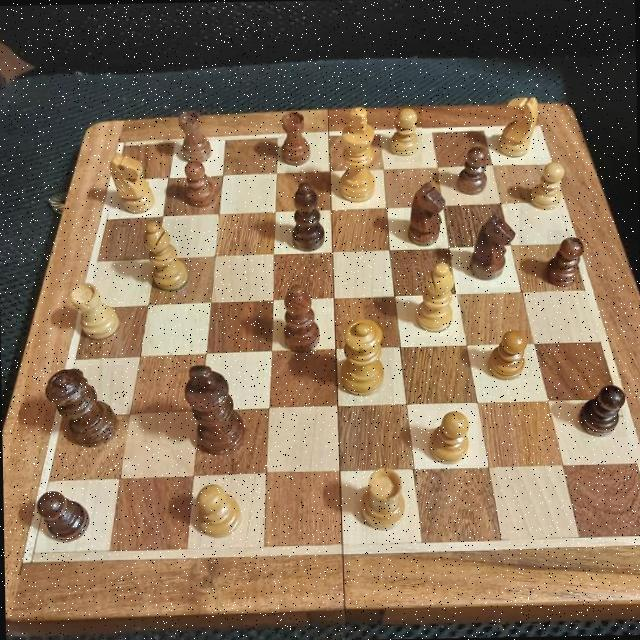black-camel: (276, 279, 325, 353), (290, 180, 324, 248)
black-elephant: (276, 106, 318, 169), (170, 108, 218, 158)
black-horse: (472, 207, 520, 288), (403, 174, 452, 250)
black-king: (182, 362, 252, 454)
black-pawn: (35, 486, 91, 544), (580, 373, 626, 438), (546, 229, 584, 283), (459, 141, 492, 195), (181, 162, 219, 208)
black-queen: (44, 364, 124, 444)
white-camel: (140, 218, 192, 294), (412, 260, 460, 337)
white-elephant: (62, 280, 126, 338), (360, 468, 410, 534)
white-horse: (499, 94, 544, 158), (108, 151, 152, 212)
white-king: (334, 102, 380, 206)
white-pawn: (424, 409, 478, 465), (188, 484, 242, 538), (531, 156, 566, 208), (495, 329, 531, 379), (393, 106, 422, 162)
white-queen: (338, 321, 393, 404)
